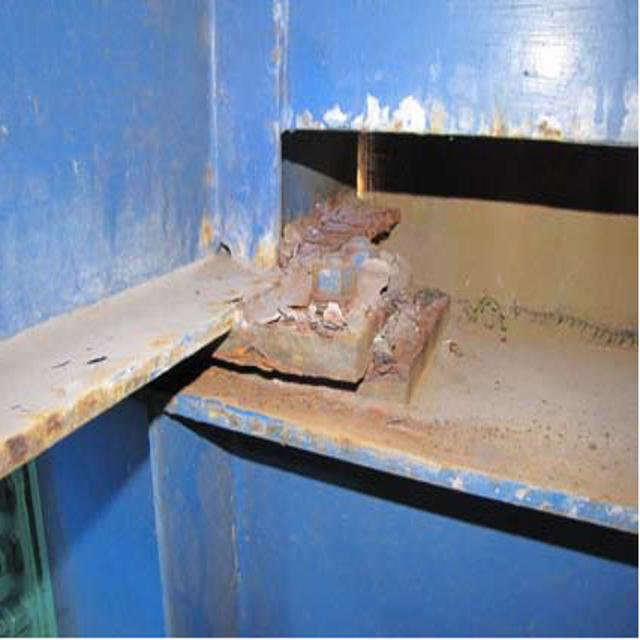corrosion: (230, 192, 459, 414), (6, 374, 141, 472)
